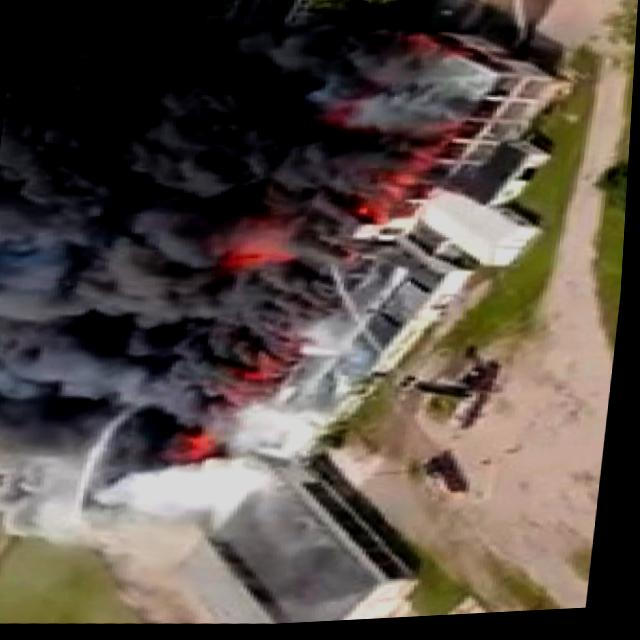smoke: (0, 64, 320, 357), (0, 287, 158, 416)
